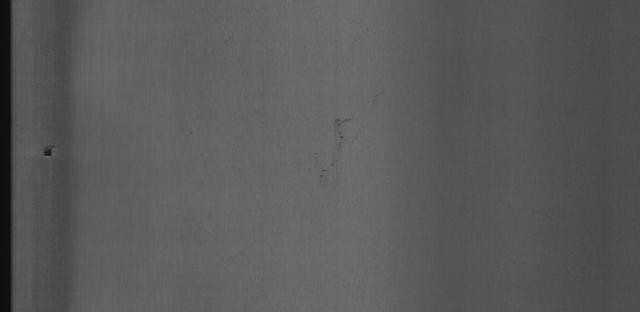inclusion: (309, 113, 371, 184), (42, 136, 56, 161)
